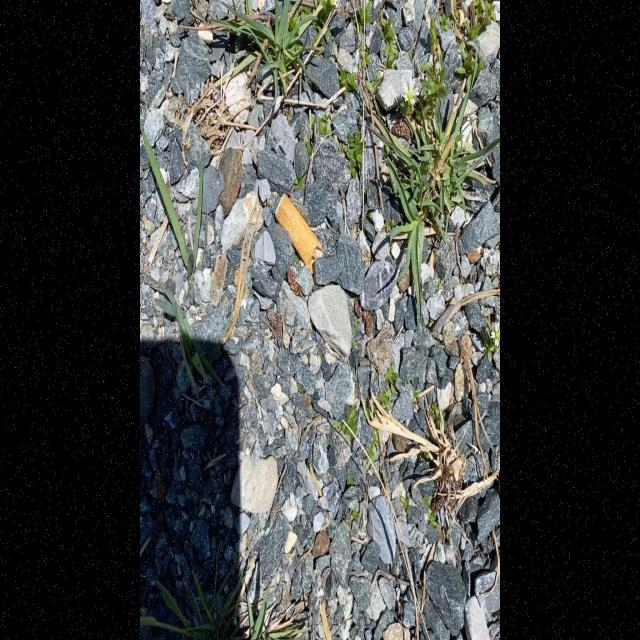other waste: (275, 192, 325, 274)
